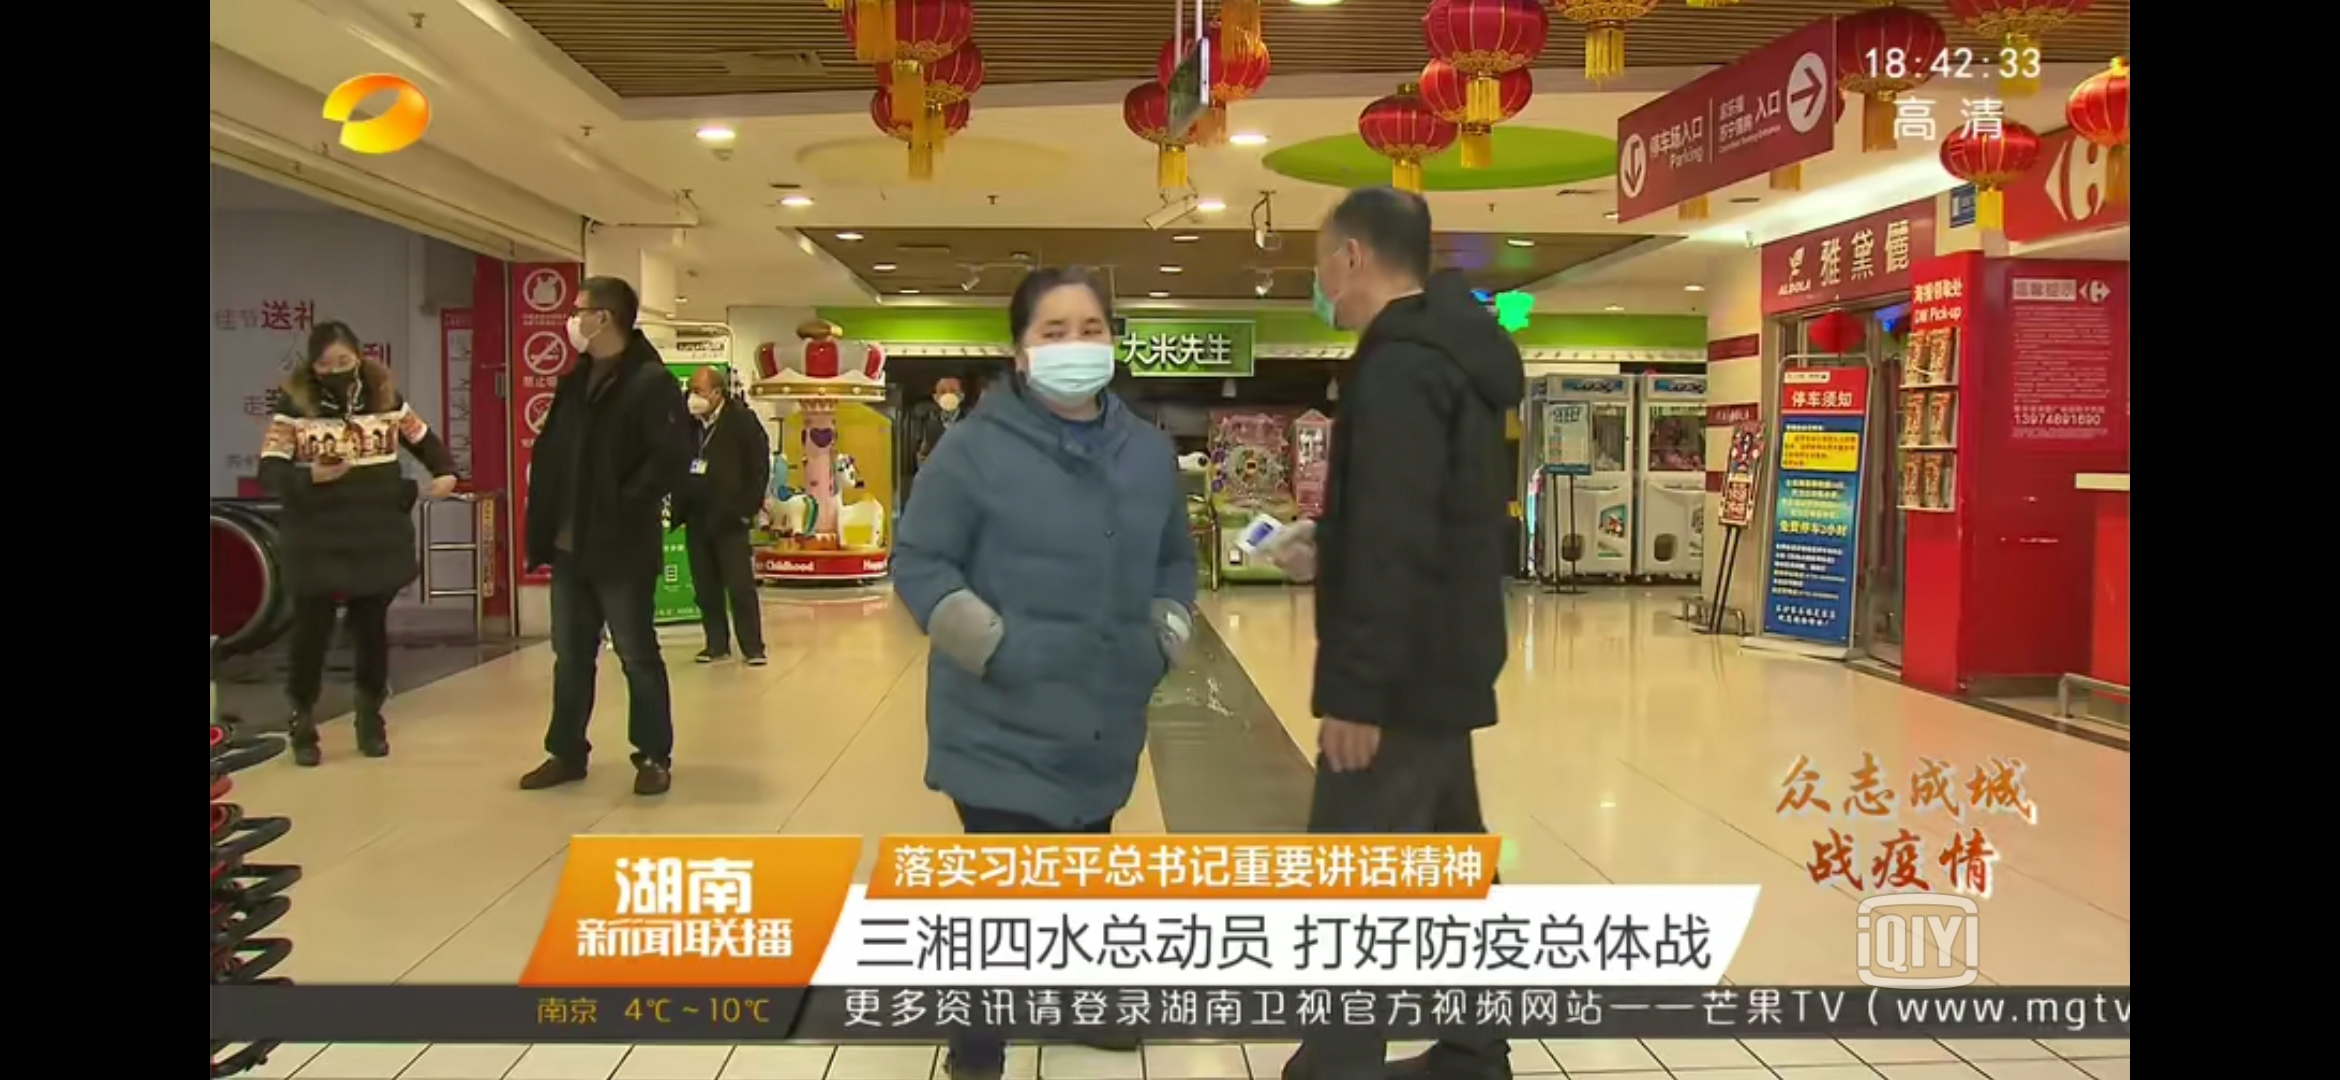correctlyWear: (1010, 306, 1115, 403), (1306, 222, 1365, 336), (561, 295, 615, 355), (307, 348, 361, 401), (685, 371, 725, 418), (931, 383, 969, 413)
